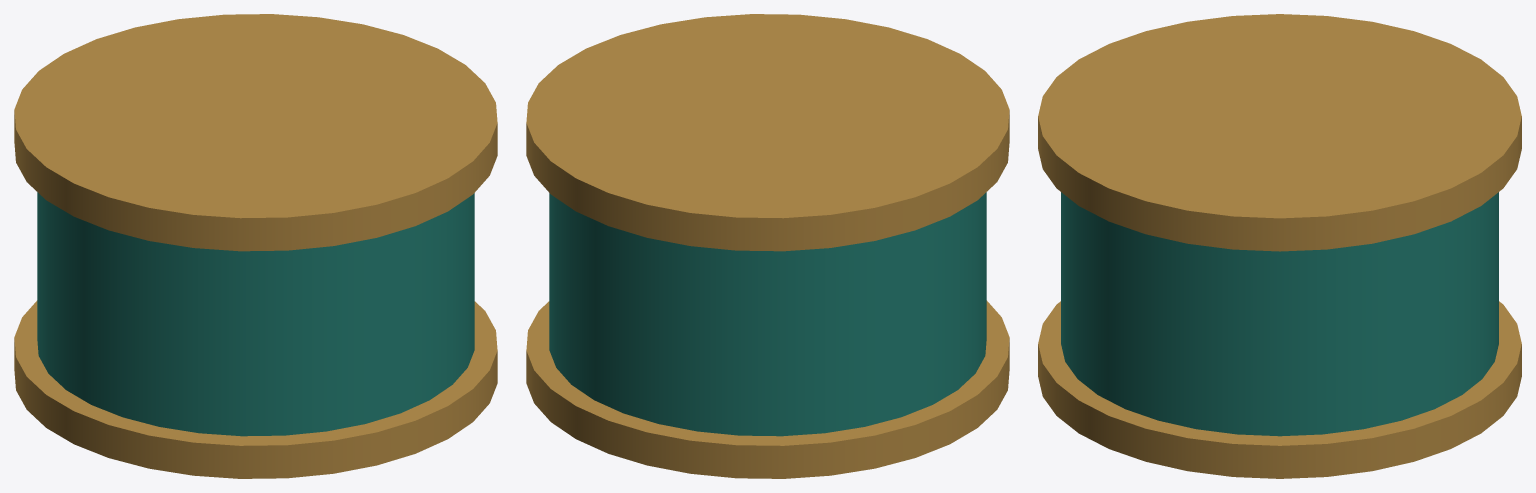
File: effort-weight-100g.glb
3 views of the same model, side by side, from view 1: azimuth 30°, elevation 25°; view 2: azimuth 150°, elevation 25°; view 3: azimuth 270°, elevation 25° (orthographic).
Parts seen in each view (by area): view 1: weight-rim (×2), teal-weight; view 2: weight-rim (×2), teal-weight; view 3: weight-rim (×2), teal-weight.
Part boxes in pixels (<box>): weight-rim (×2): <box>14,14,497,478</box>; teal-weight: <box>37,192,474,436</box>; weight-rim (×2): <box>526,14,1009,478</box>; teal-weight: <box>549,192,986,436</box>; weight-rim (×2): <box>1038,14,1521,478</box>; teal-weight: <box>1061,192,1498,436</box>.
Size of the model in its own units: 1.06 by 0.63 by 1.06.
